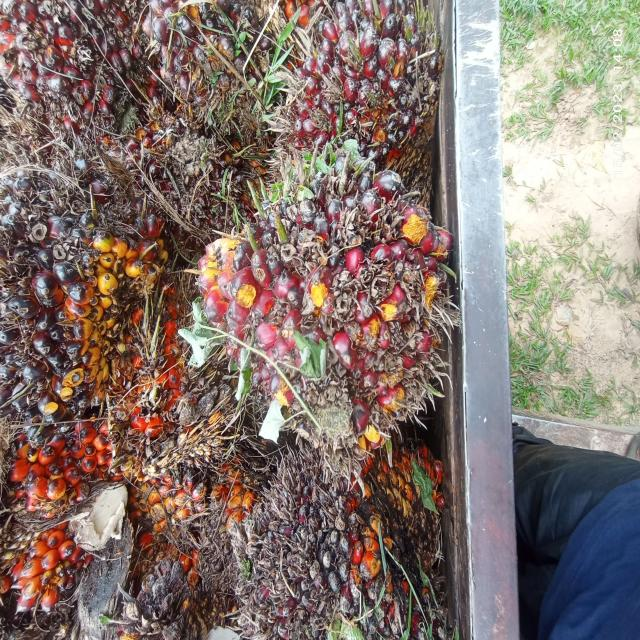fraksi 00: (0, 131, 167, 412), (230, 421, 386, 640)
fraksi 1: (180, 126, 467, 462)
fraksi 4: (10, 270, 259, 620)
